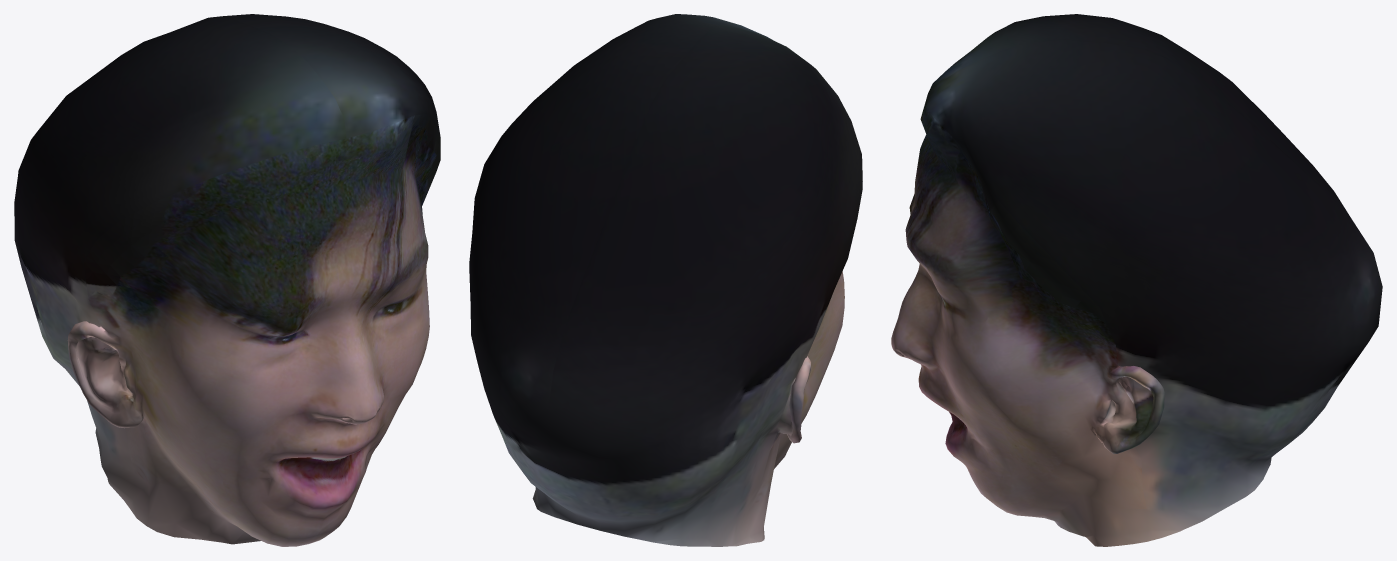
File: hao.gltf
The picture shows the model from 3 angles, left to right: view 1: azimuth 30°, elevation 25°; view 2: azimuth 150°, elevation 25°; view 3: azimuth 270°, elevation 25°; orthographic projection. The views are drawn at different scales.
Visible parts, largest first — view 1: model_T; view 2: model_T; view 3: model_T.
Part boxes in pixels (bbox=[...]): model_T: bbox=[14, 14, 440, 546]; model_T: bbox=[469, 14, 862, 546]; model_T: bbox=[891, 14, 1382, 546].
Bounding box in the file's own units: 0.1829 × 0.2501 × 0.2338.
Materials: 1 (1 with a texture image).
